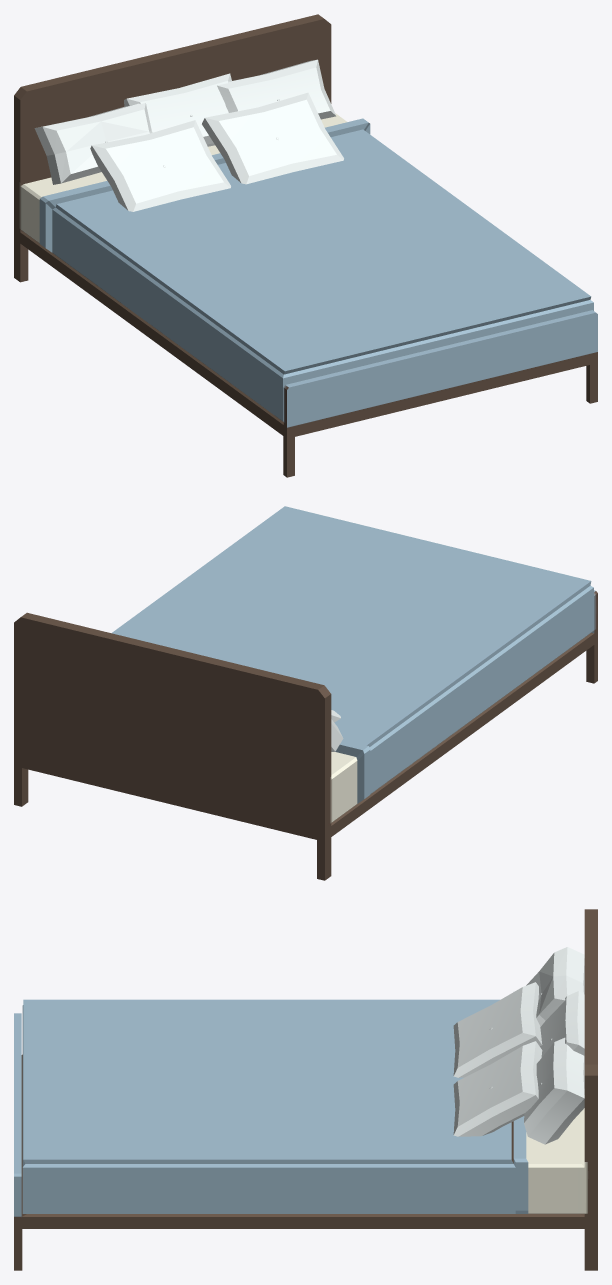
File: bed.fbx
3 views of the same model, one above another, from view 1: azimuth 30°, elevation 25°; view 2: azimuth 150°, elevation 25°; view 3: azimuth 270°, elevation 25° (orthographic). The views are drawn at different scales.
Visible parts, largest first — view 1: Bed, Pillow1, Pillow, Pillow2, Pillow3, Pillow4; view 2: Bed; view 3: Bed, Pillow1, Pillow, Pillow3, Pillow2, Pillow4.
Boxes of the visible parts, x1=… form: Bed: x1=14, y1=14, x2=597, y2=477; Pillow1: x1=202, y1=92, x2=343, y2=184; Pillow: x1=90, y1=120, x2=230, y2=211; Pillow2: x1=34, y1=103, x2=152, y2=184; Pillow3: x1=217, y1=59, x2=336, y2=119; Pillow4: x1=124, y1=73, x2=231, y2=146; Bed: x1=14, y1=506, x2=597, y2=880; Bed: x1=14, y1=909, x2=597, y2=1270; Pillow1: x1=453, y1=1041, x2=542, y2=1136; Pillow: x1=453, y1=982, x2=542, y2=1077; Pillow3: x1=524, y1=1037, x2=584, y2=1144; Pillow2: x1=526, y1=947, x2=584, y2=1026; Pillow4: x1=540, y1=991, x2=584, y2=1057.
Size of the model in its own units: 310 by 173 by 452.
Materials: 2 (1 with a texture image).
